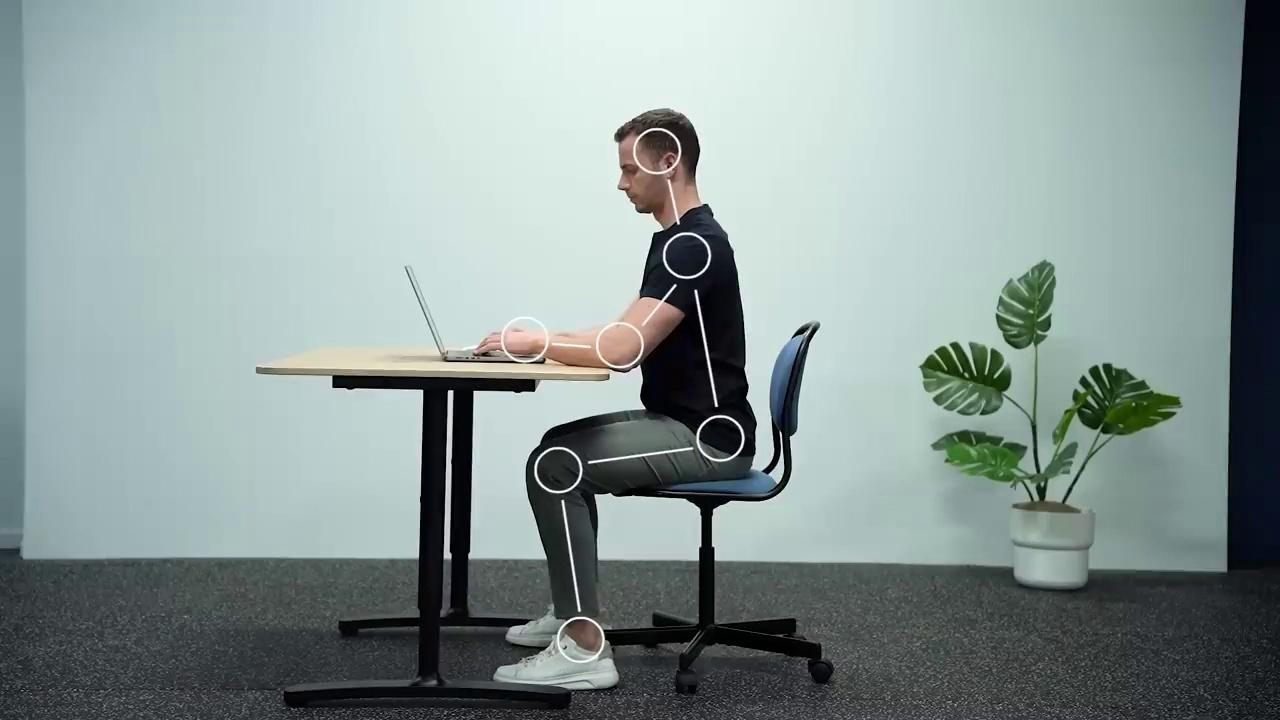GoodPosture: (478, 109, 755, 689)
